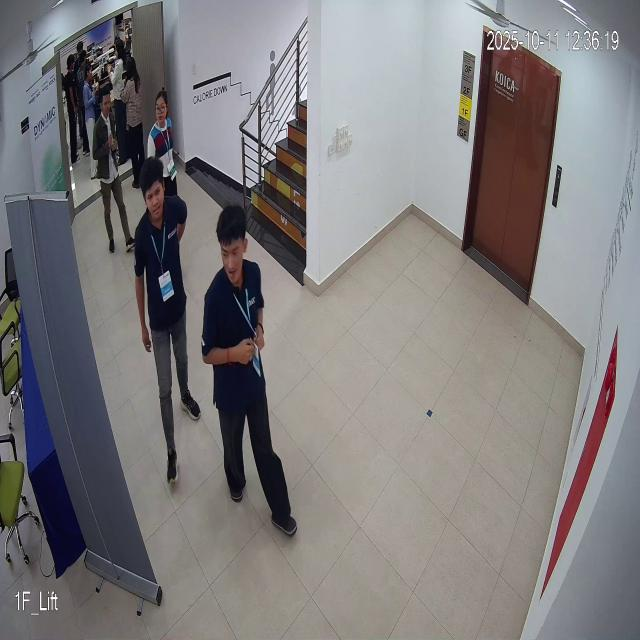face: (210, 199, 252, 294), (136, 150, 168, 224), (153, 90, 170, 128)
